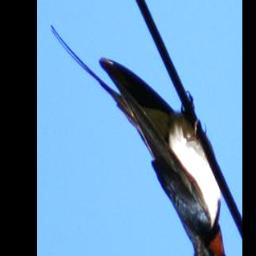Swallow: (47, 23, 231, 256)
